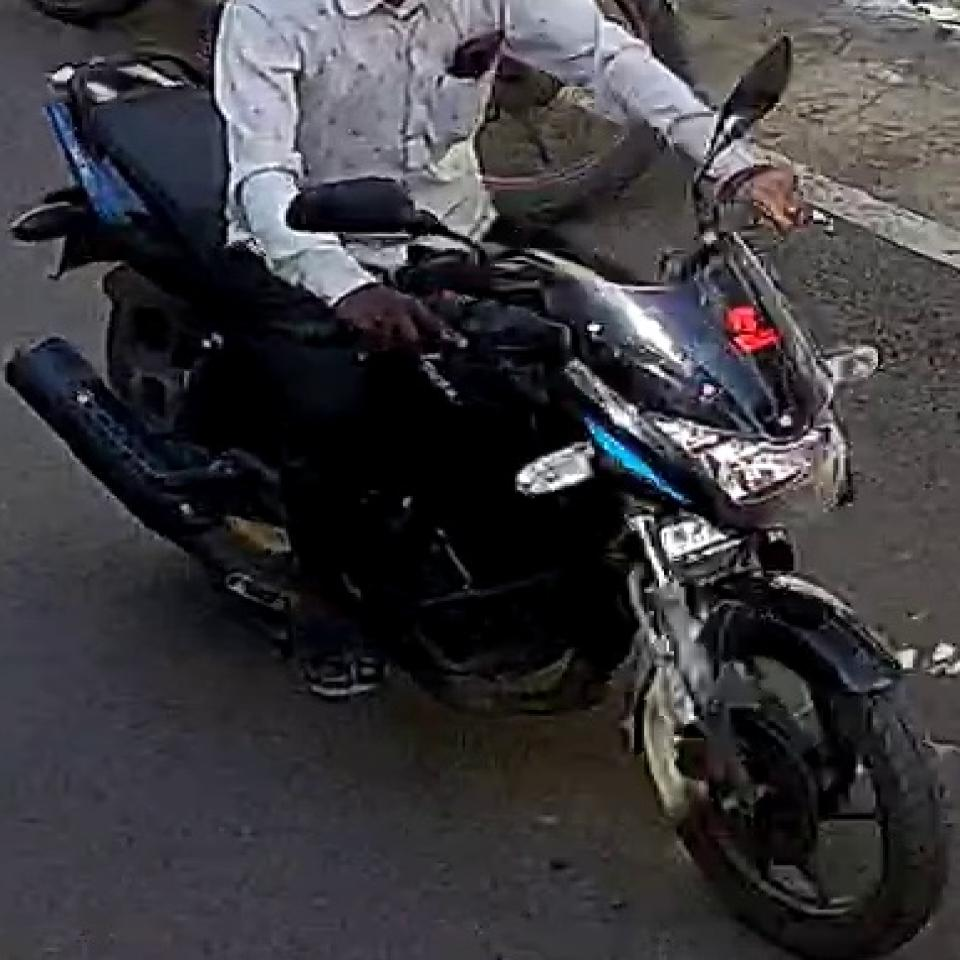head_light: (650, 377, 853, 521)
